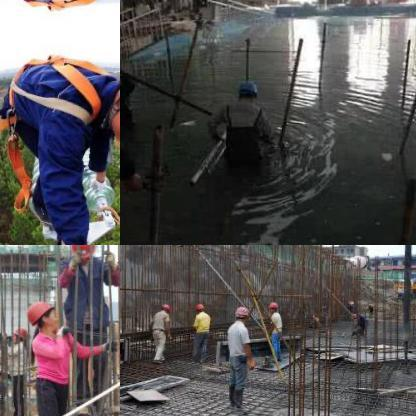Helmet: (24, 298, 60, 332), (236, 76, 262, 106), (65, 245, 97, 263), (10, 322, 28, 340), (233, 304, 247, 322), (158, 302, 170, 312), (267, 299, 277, 311), (194, 302, 204, 312)
